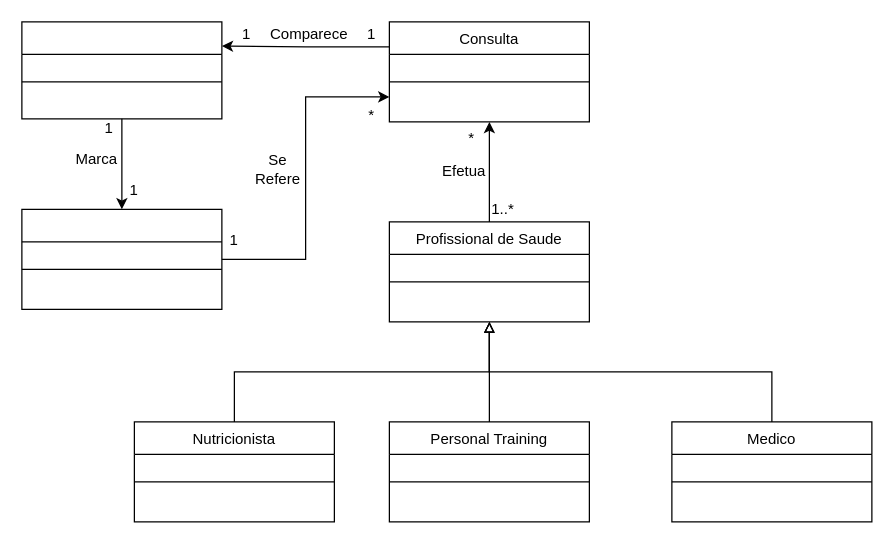
The diagram is 894 pixels wide and 544 high, and some of its shapes have lost their labels. The shapes that lost their labels are listed below. From the top down, each one's centre as x and y in pixels, then its label:
At [121,70]: "Usuario".
At [121,258]: "Agendar".
